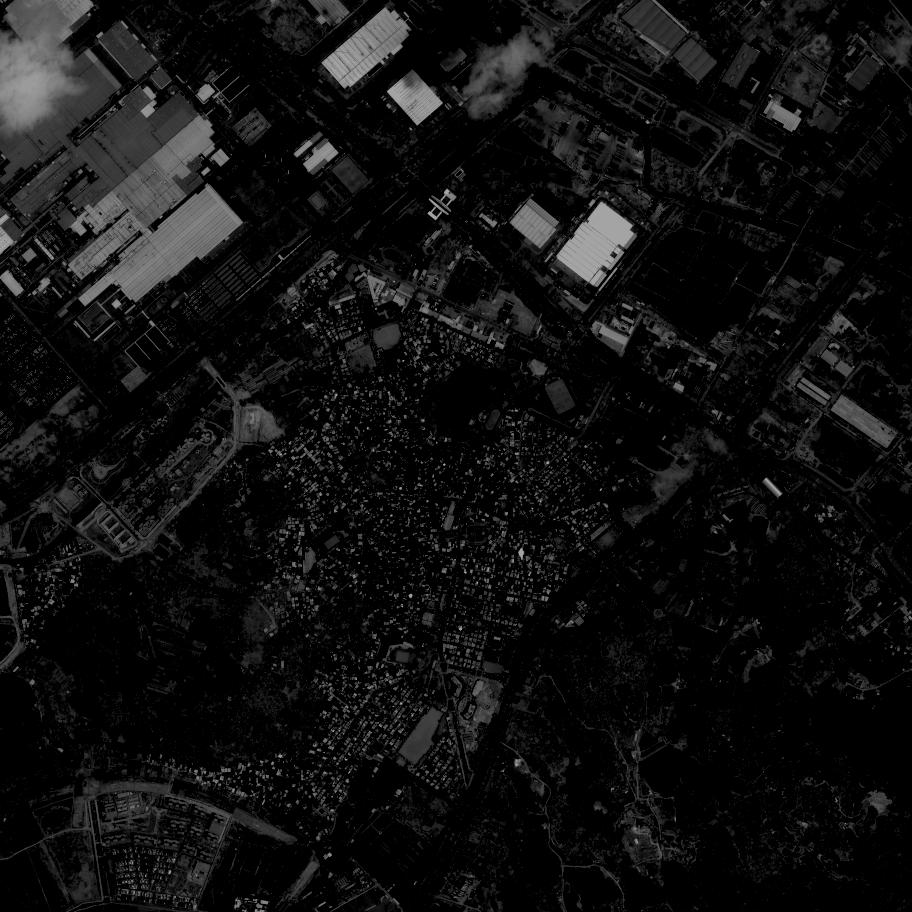storage-tank: (567, 222, 571, 226)
